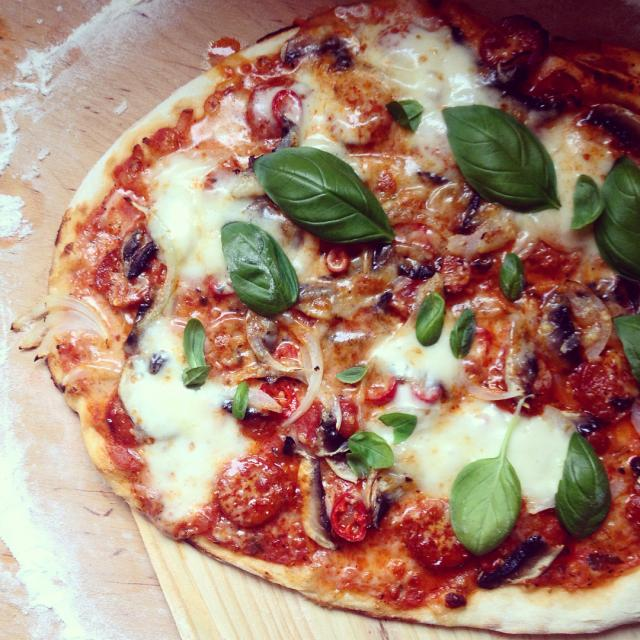basil: (247, 145, 403, 247), (436, 102, 563, 217), (452, 395, 524, 556), (215, 213, 304, 315), (567, 156, 640, 280), (555, 430, 607, 546), (416, 289, 478, 358), (344, 429, 398, 479), (178, 314, 212, 391), (607, 311, 640, 388), (374, 410, 418, 448), (384, 96, 429, 132), (498, 250, 526, 302), (230, 377, 251, 424), (332, 365, 368, 386)
mushrooms: (285, 438, 337, 555), (469, 536, 567, 588), (472, 67, 580, 114), (570, 91, 640, 148), (536, 295, 583, 365), (110, 225, 158, 283), (286, 39, 368, 65), (370, 482, 402, 531)
pizza: (13, 0, 640, 632)
tomatoes: (325, 477, 372, 550), (325, 390, 365, 440), (364, 380, 442, 403), (266, 90, 308, 131), (313, 247, 353, 274)
